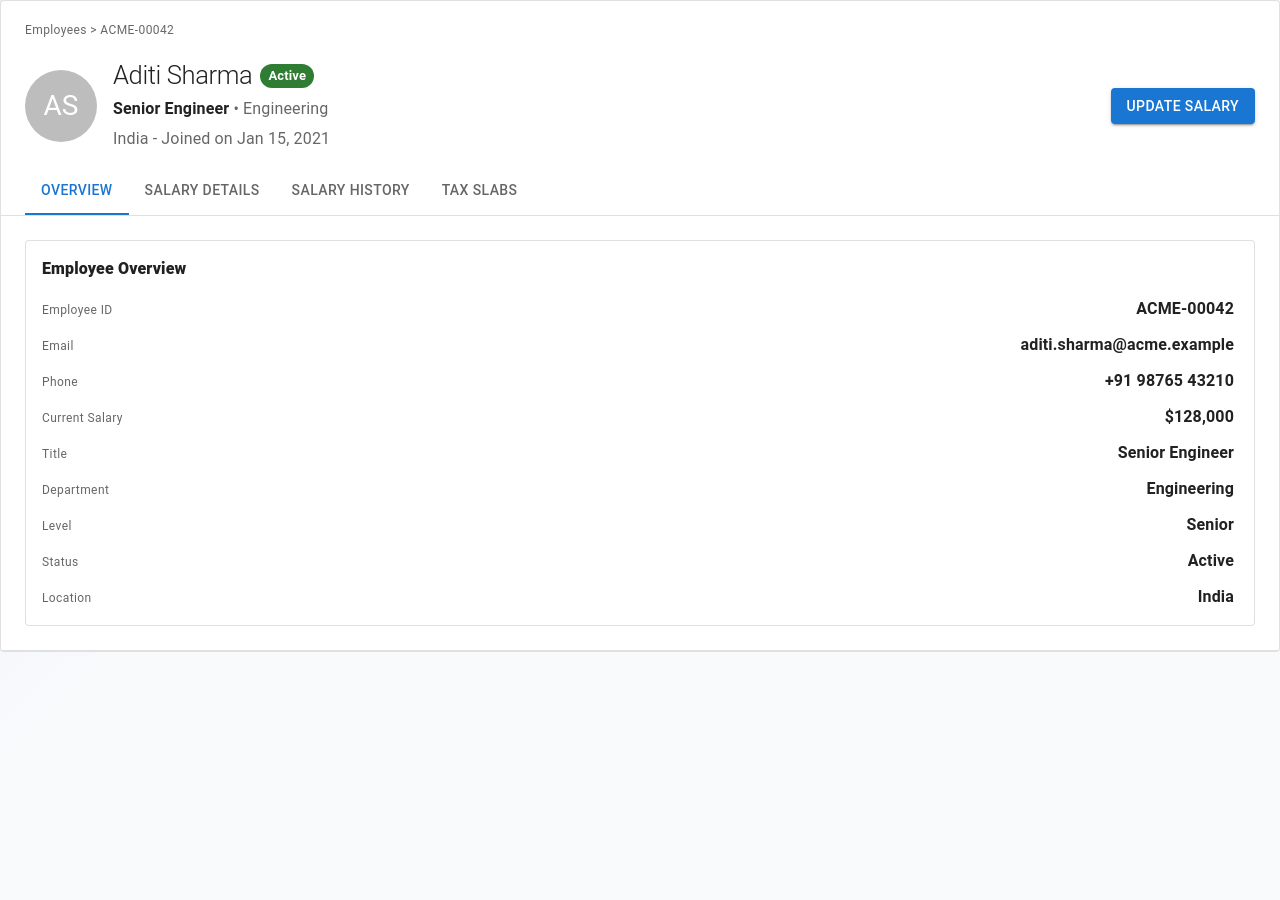
EmployeeProfile › displays salary metadata on the salary details tab
The image size is (1280, 900).
Step 1. Click the tab "Salary Details" → x=202, y=191, box [129, 167, 276, 215]
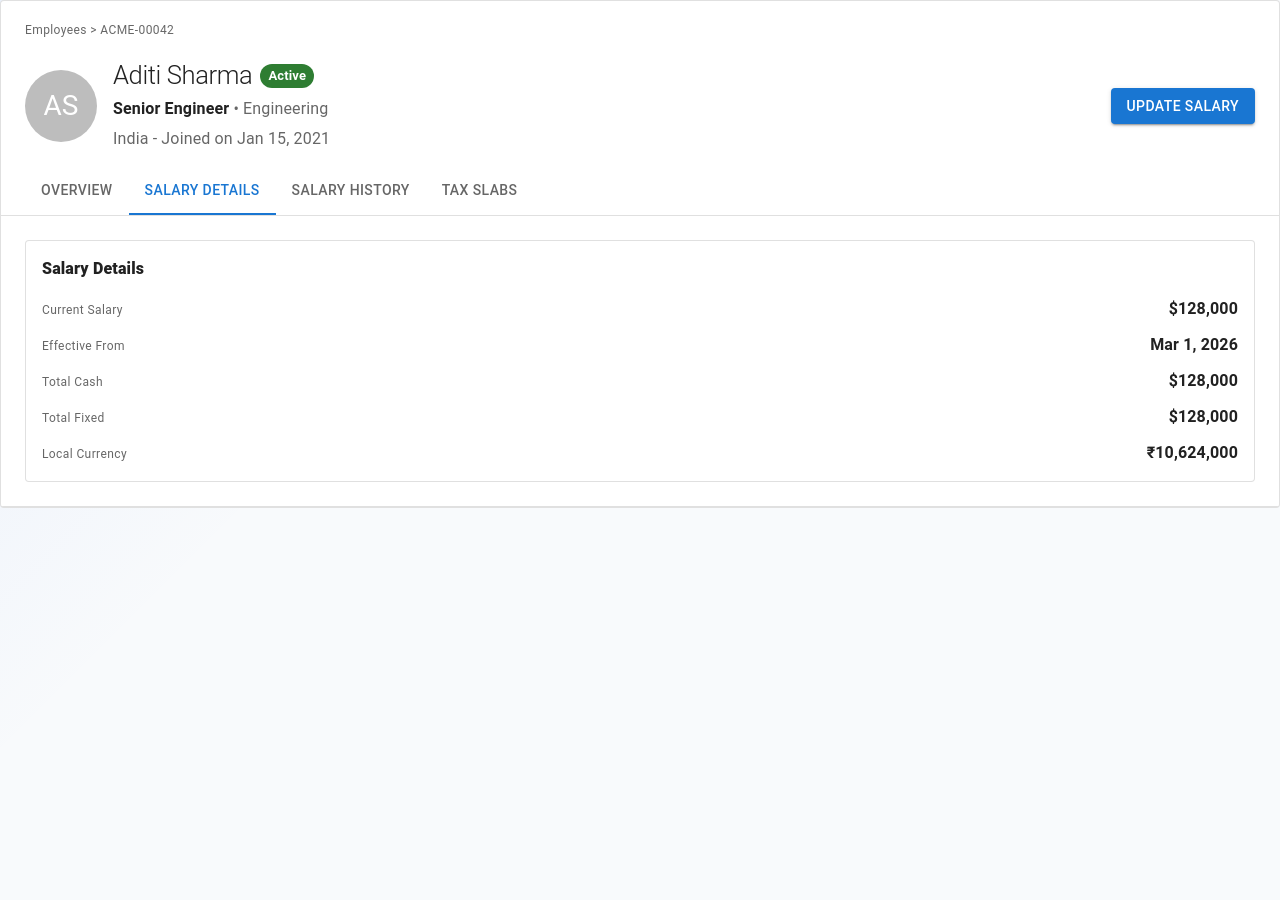
Check: the text "Effective From" is shown, box [42, 337, 125, 357]
Check: the text "Mar 1, 2026" is shown, box [1150, 333, 1238, 357]
Check: the text "Total Cash" is shown, box [42, 373, 103, 393]
